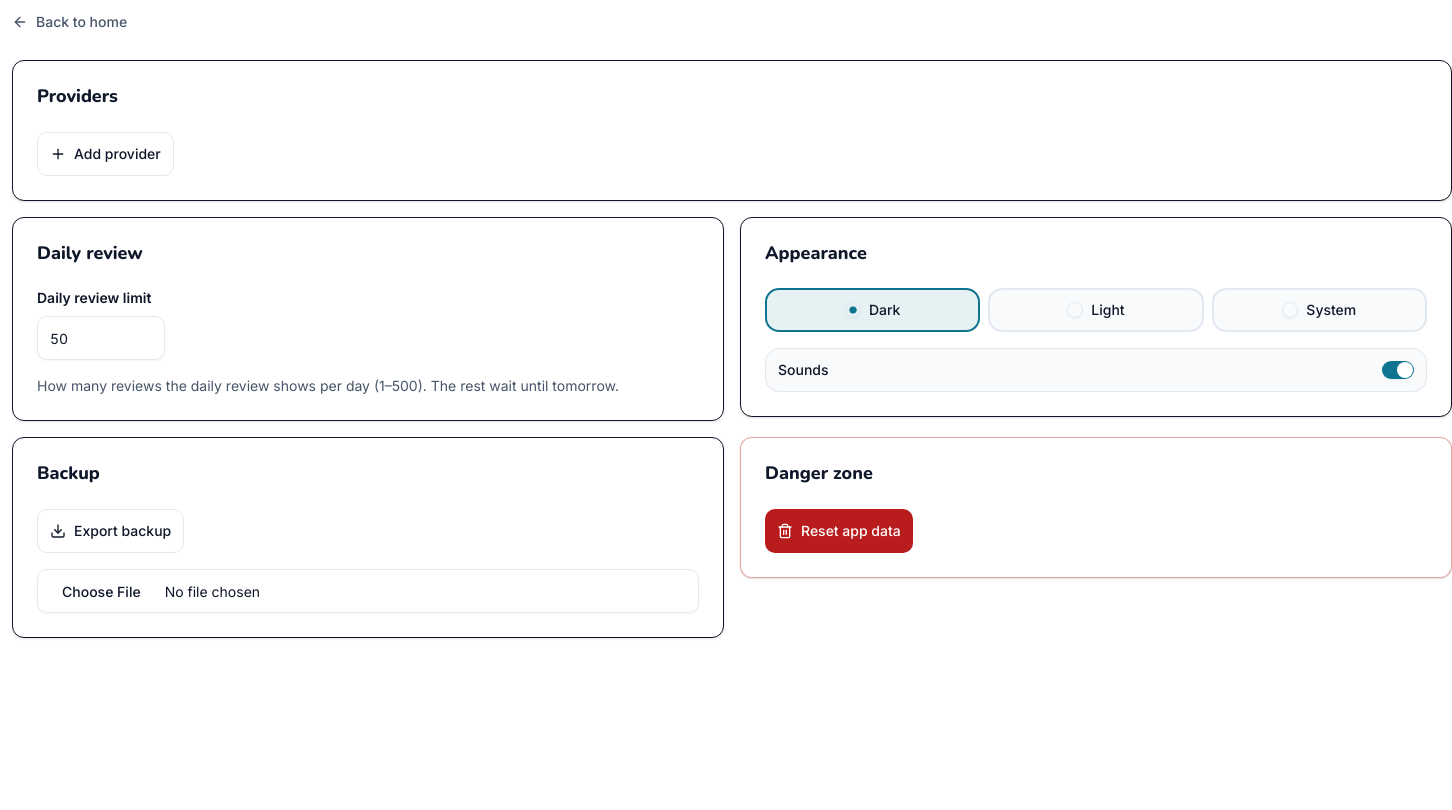
Test case: SettingsPage › shows an alert when the theme or sound setting cannot be saved
The image size is (1452, 810).
Click the switch named "Sounds" at [1398, 370], box [1382,361,1414,379]
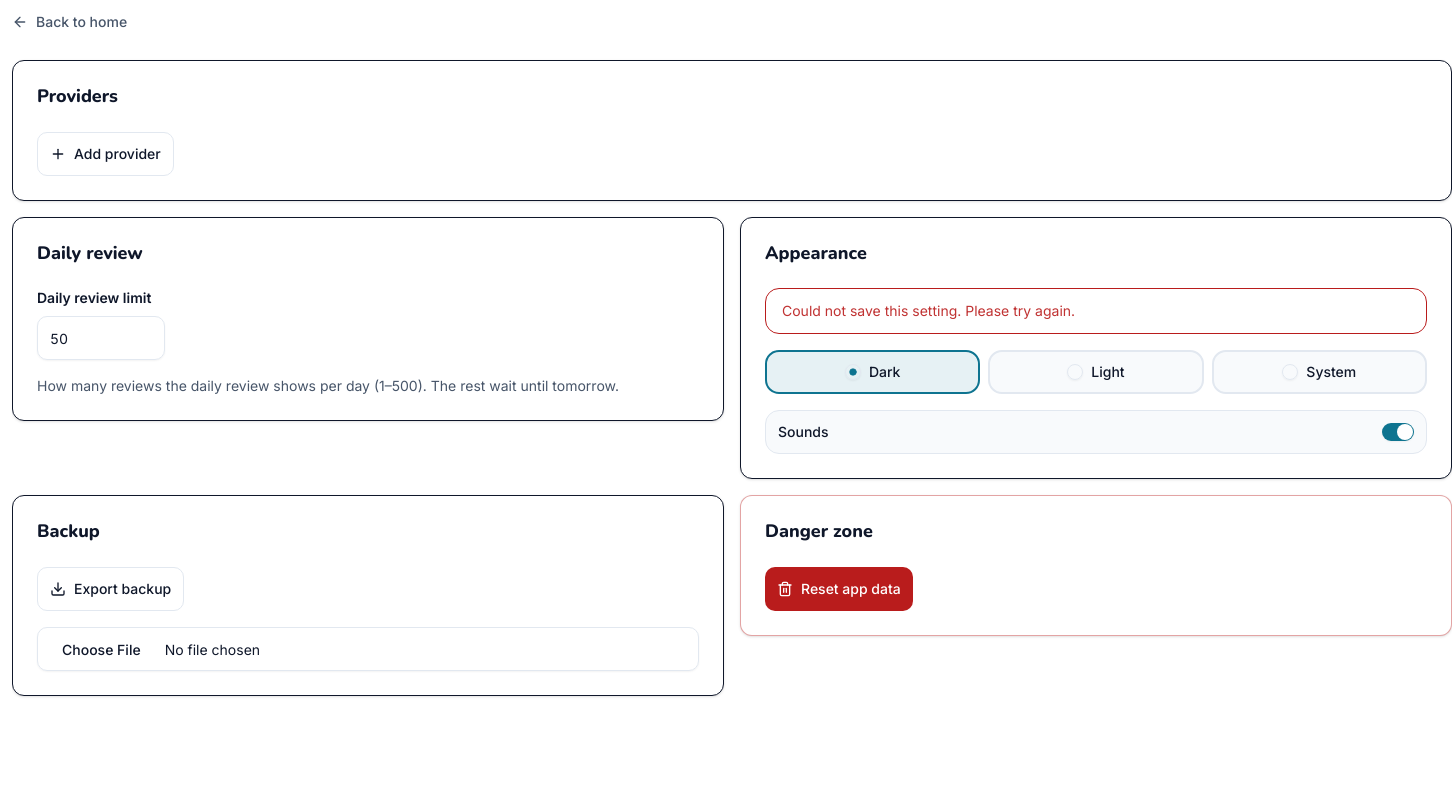
Result: the message shows "Could not save this setting" at [782,302,1075,319]
